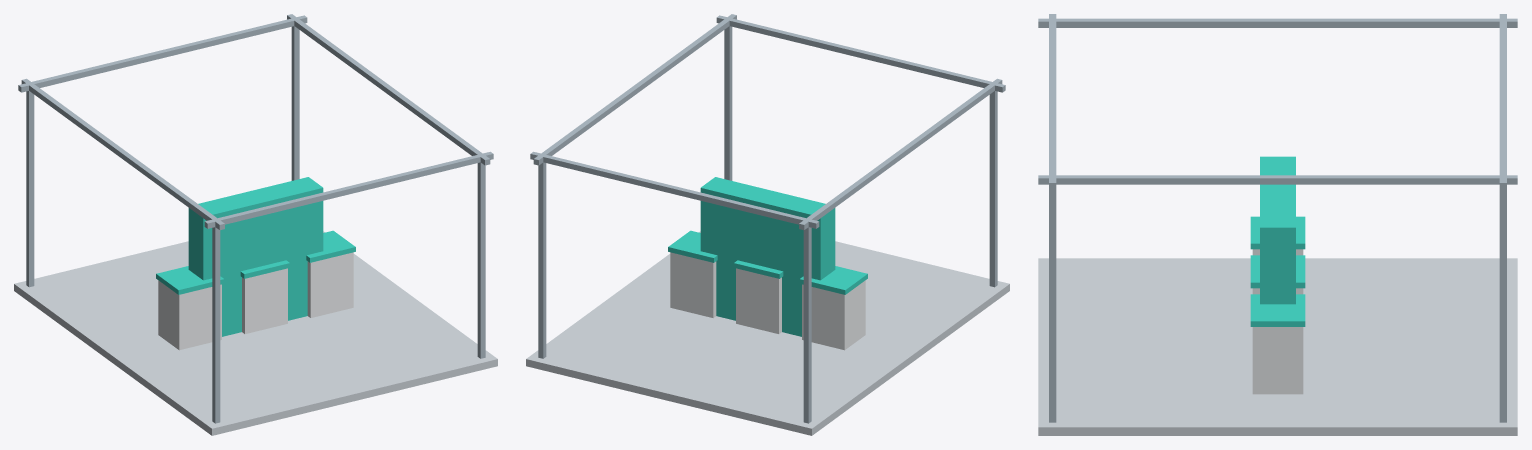
The picture shows the model from 3 angles, left to right: view 1: azimuth 30°, elevation 25°; view 2: azimuth 150°, elevation 25°; view 3: azimuth 270°, elevation 25°; orthographic projection. The views are drawn at different scales.
Parts seen in each view (by area): view 1: Exhibition Booth Concept; view 2: Exhibition Booth Concept; view 3: Exhibition Booth Concept.
Boxes of the visible parts, x1=… form: Exhibition Booth Concept: x1=14, y1=14, x2=497, y2=435; Exhibition Booth Concept: x1=526, y1=14, x2=1009, y2=435; Exhibition Booth Concept: x1=1038, y1=14, x2=1517, y2=435.
Bounding box in the file's own units: 5 × 3.49 × 6.
